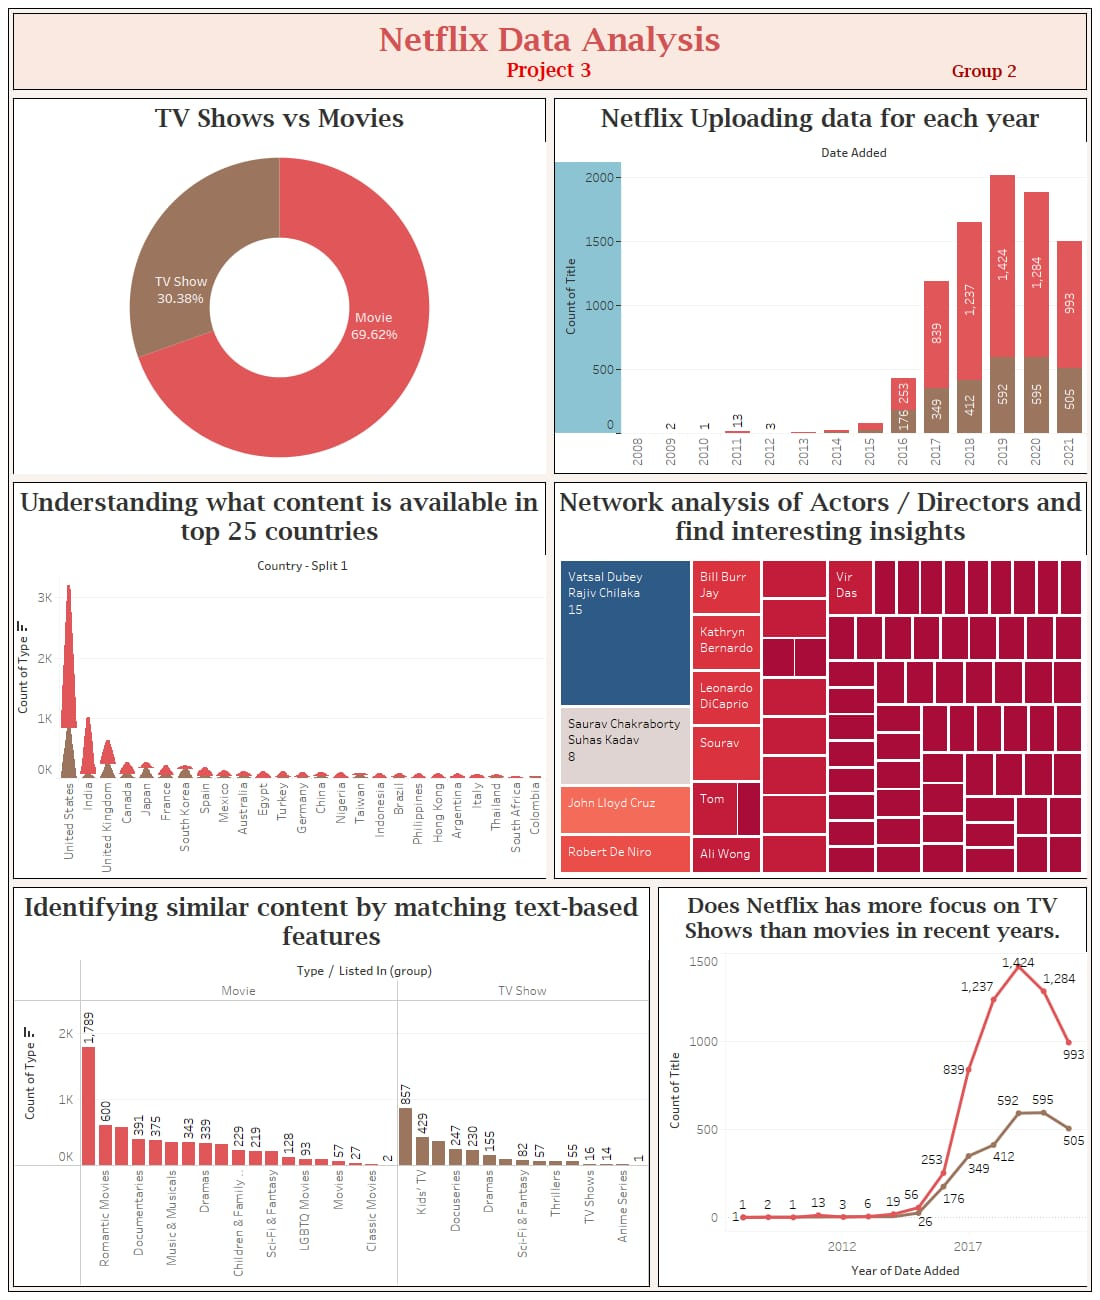

This screenshot's page, from the dashboard's own definition file:
{"tool":"tableau","page":{"name":"Dashboard 1","canvas":[1100,1300],"ordinal":0},"visuals":[{"type":"text","box":[9,9,1082,103]},{"type":"worksheet","title":"Netflix data","mark":"Pie","rows":["Calculation_349873461094453251","Calculation_349873461094494213"],"box":[9,112,541,366]},{"type":"worksheet","title":"Uploading data","mark":"Bar","rows":["title"],"cols":["date_added"],"box":[550,112,541,366]},{"type":"worksheet","title":"content availabulity in diff countries(1)","mark":"Automatic","rows":["type"],"cols":["country - Split 1"],"box":[9,478,541,404.6]},{"type":"worksheet","title":"Network analysis of Actors / Directors","mark":"Automatic","box":[550,478,541,404.6]},{"type":"worksheet","title":"similar content","mark":"Automatic","rows":["type"],"cols":["type"],"box":[9,882.6,645,408.4]},{"type":"worksheet","title":"Netflix focus","mark":"Automatic","rows":["title"],"cols":["date_added"],"box":[654,882.6,437,408.4]}]}

Visuals, with their boxes in screenshot pixels (x1, y1, x2, y2), scaled from the page's 1100x1300 canvas onto the 1100x1300 screenshot:
text: detection(9, 9, 1091, 112)
"Netflix data" worksheet (Pie marks): detection(9, 112, 550, 478)
"Uploading data" worksheet (Bar marks): detection(550, 112, 1091, 478)
"content availabulity in diff countries(1)" worksheet: detection(9, 478, 550, 883)
"Network analysis of Actors / Directors" worksheet: detection(550, 478, 1091, 883)
"similar content" worksheet: detection(9, 883, 654, 1291)
"Netflix focus" worksheet: detection(654, 883, 1091, 1291)
